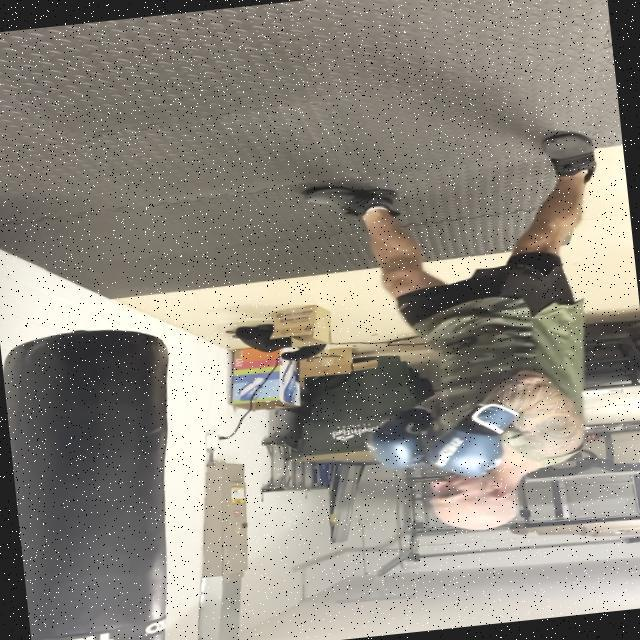bag: (0, 318, 181, 640)
no punch: (348, 368, 600, 544)
